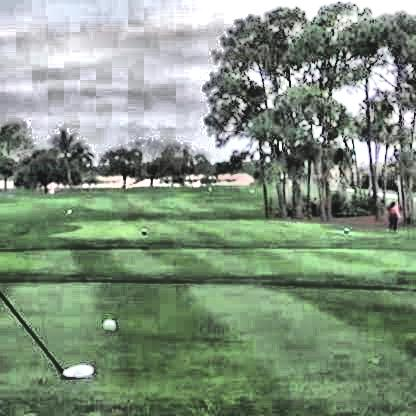golfball: (99, 315, 114, 331)
